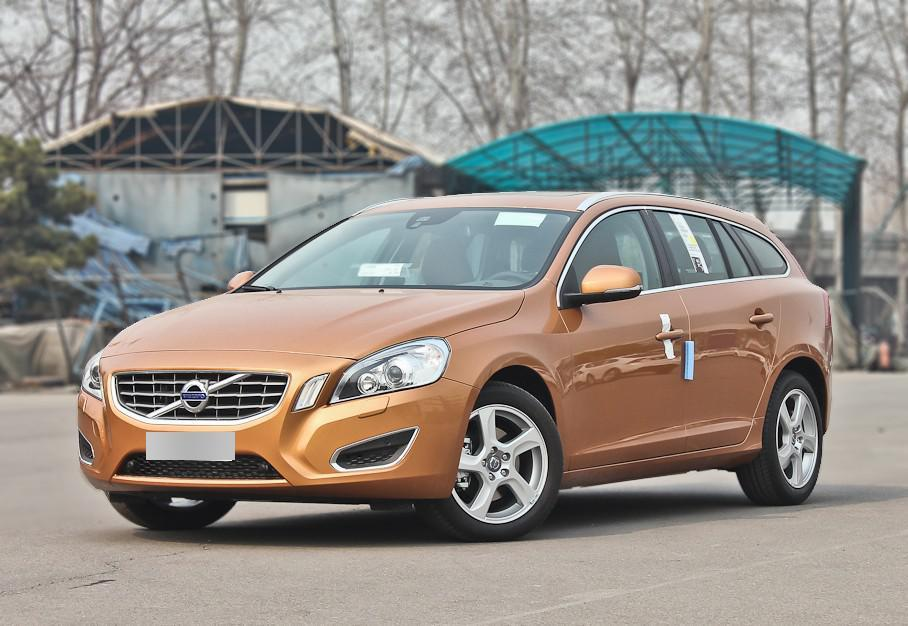Wagon: (76, 190, 835, 541)
